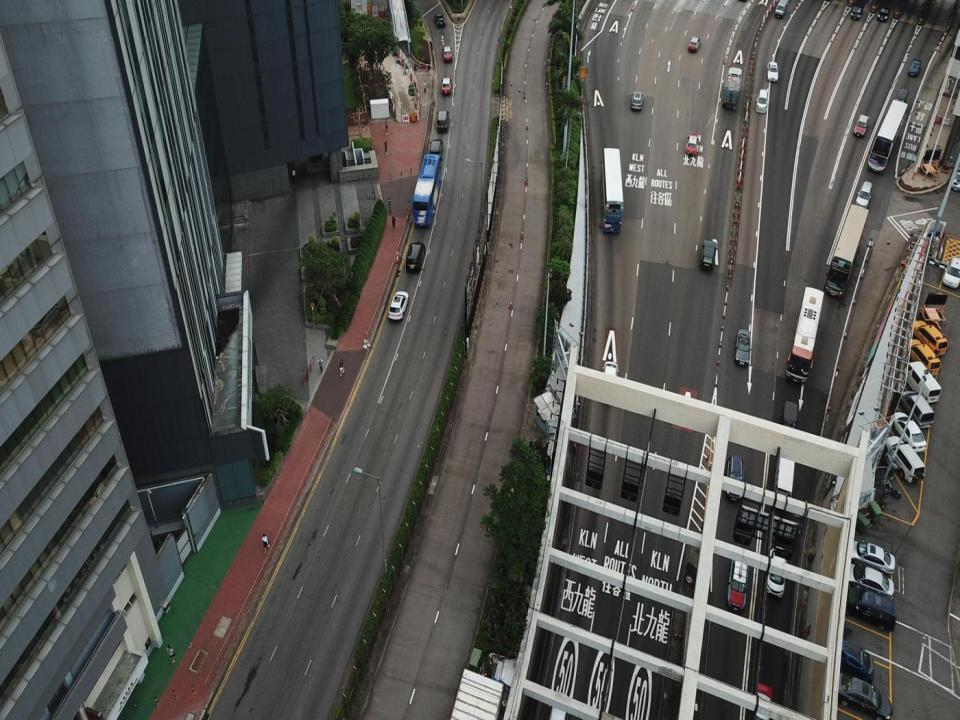bus: (824, 204, 869, 298), (786, 286, 823, 383), (867, 98, 908, 174), (411, 154, 442, 226), (600, 148, 623, 234), (773, 430, 795, 510), (631, 92, 643, 110)
car: (834, 673, 893, 719), (844, 562, 894, 601), (846, 540, 895, 577), (838, 638, 874, 684), (891, 412, 926, 453), (727, 555, 748, 610), (752, 682, 772, 716), (387, 290, 409, 320), (734, 329, 751, 365), (942, 256, 960, 288), (853, 114, 870, 137), (906, 58, 921, 78), (685, 134, 699, 154), (876, 5, 890, 22), (951, 167, 960, 191), (767, 62, 778, 81), (688, 36, 701, 52), (441, 77, 452, 94), (442, 46, 452, 62), (434, 13, 445, 27)
truck: (722, 66, 743, 109)
van: (842, 585, 898, 631), (882, 436, 925, 483), (901, 361, 941, 405), (898, 390, 935, 429), (902, 339, 940, 376), (910, 320, 948, 356), (765, 546, 787, 598), (724, 456, 743, 501), (602, 361, 620, 401), (779, 401, 797, 440), (406, 243, 425, 272), (700, 240, 718, 270), (854, 181, 873, 209), (890, 88, 908, 112), (428, 139, 444, 160), (754, 89, 768, 113), (850, 0, 865, 21), (437, 110, 450, 134), (774, 1, 789, 18)
